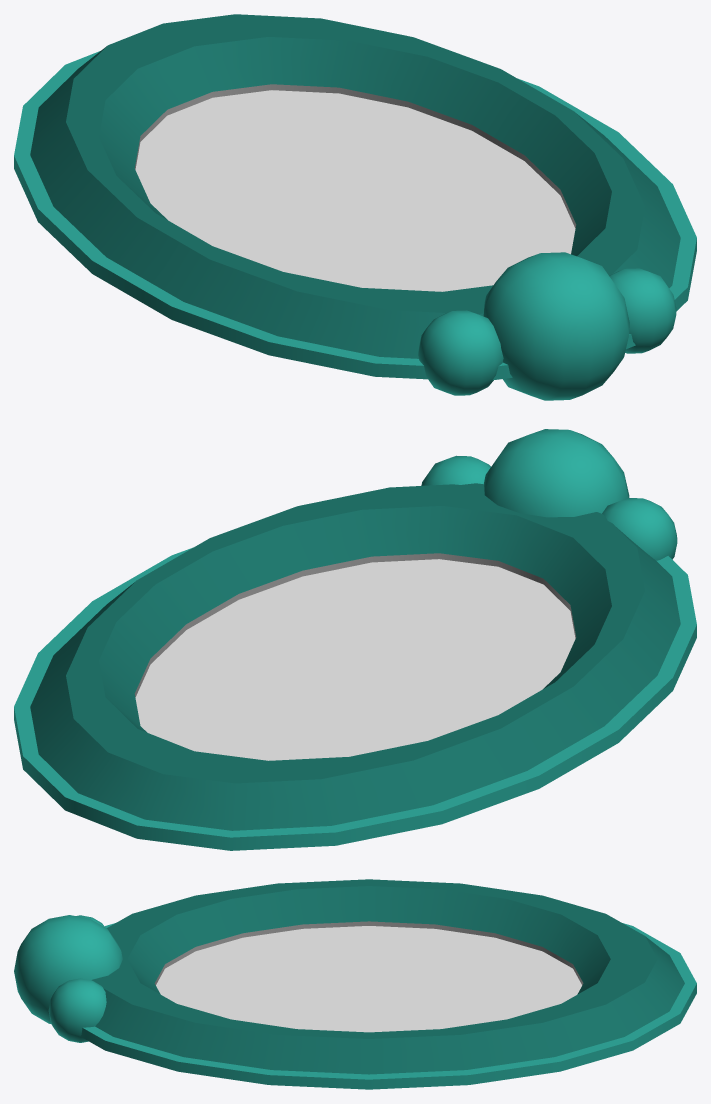
Rendered from schilderijv3 1.fbx.
3 views of the same model, one above another, from view 1: azimuth 30°, elevation 25°; view 2: azimuth 150°, elevation 25°; view 3: azimuth 270°, elevation 25° (orthographic). The views are drawn at different scales.
Parts seen in each view (by area): view 1: pPipe2, pDisc1, pCube1, pCube2, pCube3; view 2: pPipe2, pDisc1, pCube1, pCube2, pCube3; view 3: pPipe2, pDisc1, pCube1, pCube3.
Part boxes in pixels (x1,y1,x2,y2): pPipe2: [14, 14, 696, 380]; pDisc1: [135, 90, 575, 291]; pCube1: [483, 252, 629, 400]; pCube2: [418, 310, 503, 395]; pCube3: [609, 268, 676, 353]; pPipe2: [14, 483, 696, 850]; pDisc1: [135, 559, 575, 760]; pCube1: [484, 429, 629, 517]; pCube2: [602, 498, 677, 560]; pCube3: [421, 455, 490, 485]; pPipe2: [80, 879, 696, 1089]; pDisc1: [156, 926, 581, 1032]; pCube1: [14, 915, 122, 1024]; pCube3: [48, 978, 106, 1042].
Size of the model in its own units: 7.16 by 1.74 by 10.73.
